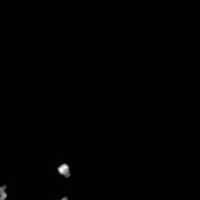chromosome: (58, 164, 71, 180), (32, 195, 70, 200), (0, 186, 8, 200)
